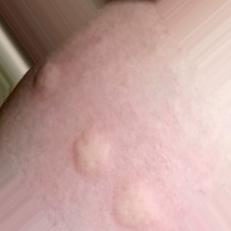Mosquito: (67, 128, 113, 179), (114, 181, 160, 231), (27, 59, 62, 96)
